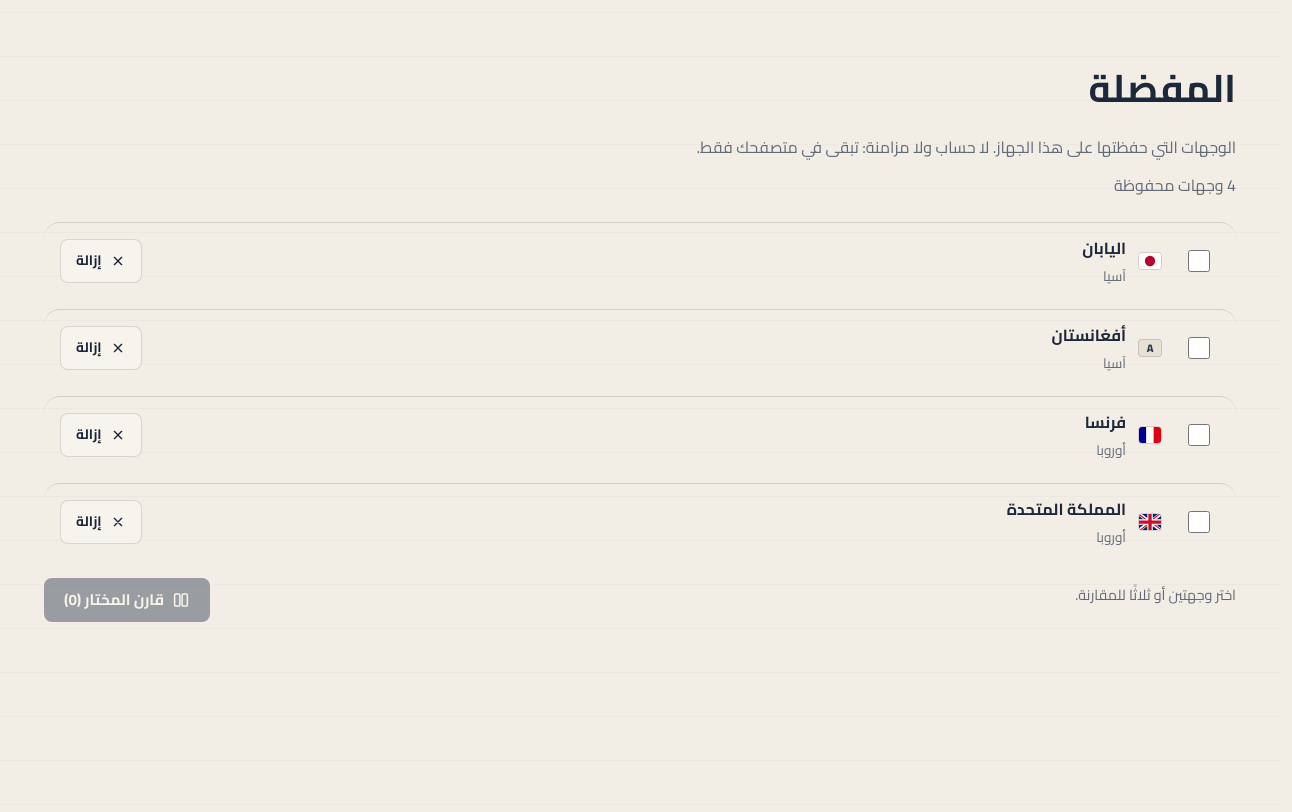
Favorites page › lists saved destinations, removes one, and limits compare to three
Expected: the number of list items is 4, [44,222,1236,299]; [44,309,1236,386]; [44,396,1236,473]; [44,483,1236,560]
Click the button with aria-label "إزالة المملكة المتحدة من المفضلة".
click(101, 522)  # box [60,500,142,544]
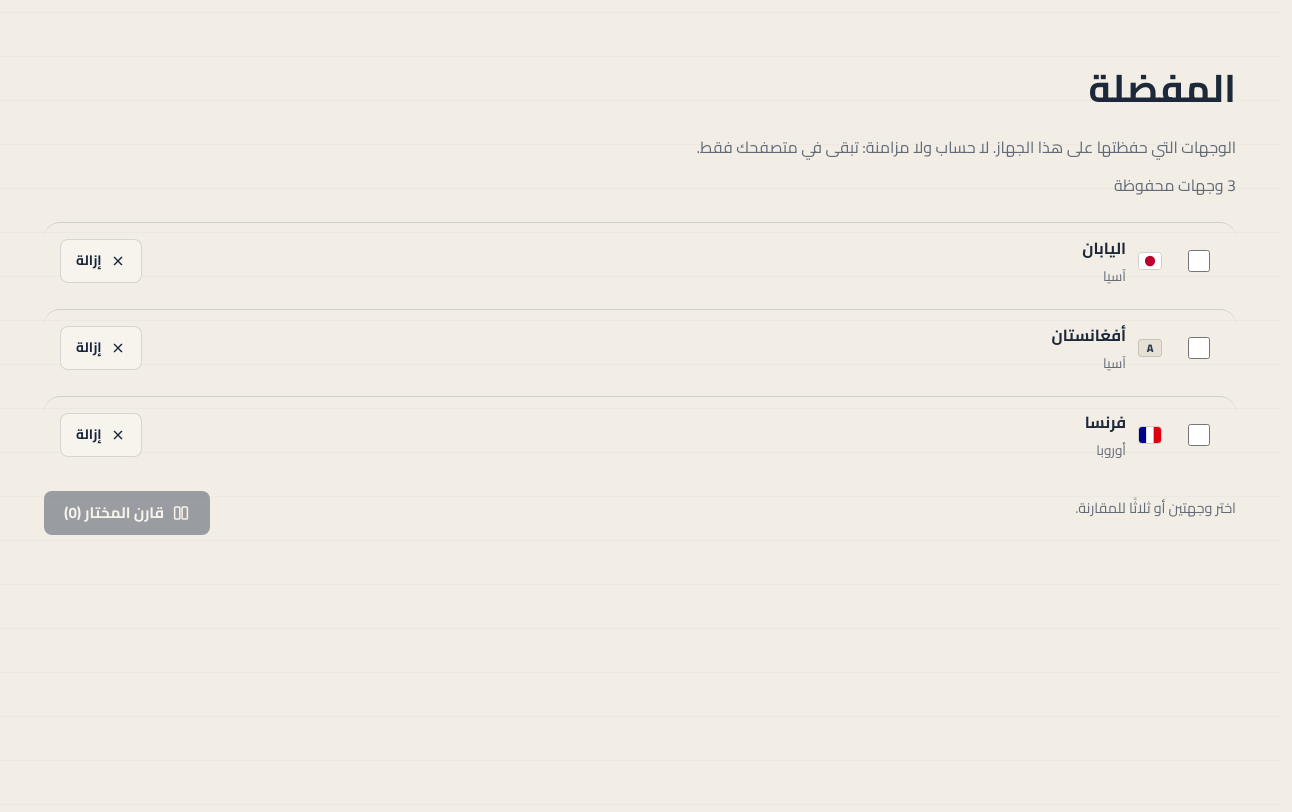
Expected: the button "قارن المختار (0)" is disabled, [44,491,210,535]
Result: the number of list items is 3 at [44,222,1236,299]; [44,309,1236,386]; [44,396,1236,473]
Click the checkbox named "اختر اليابان للمقارنة".
click(1198, 261)  # box [1188,250,1210,272]
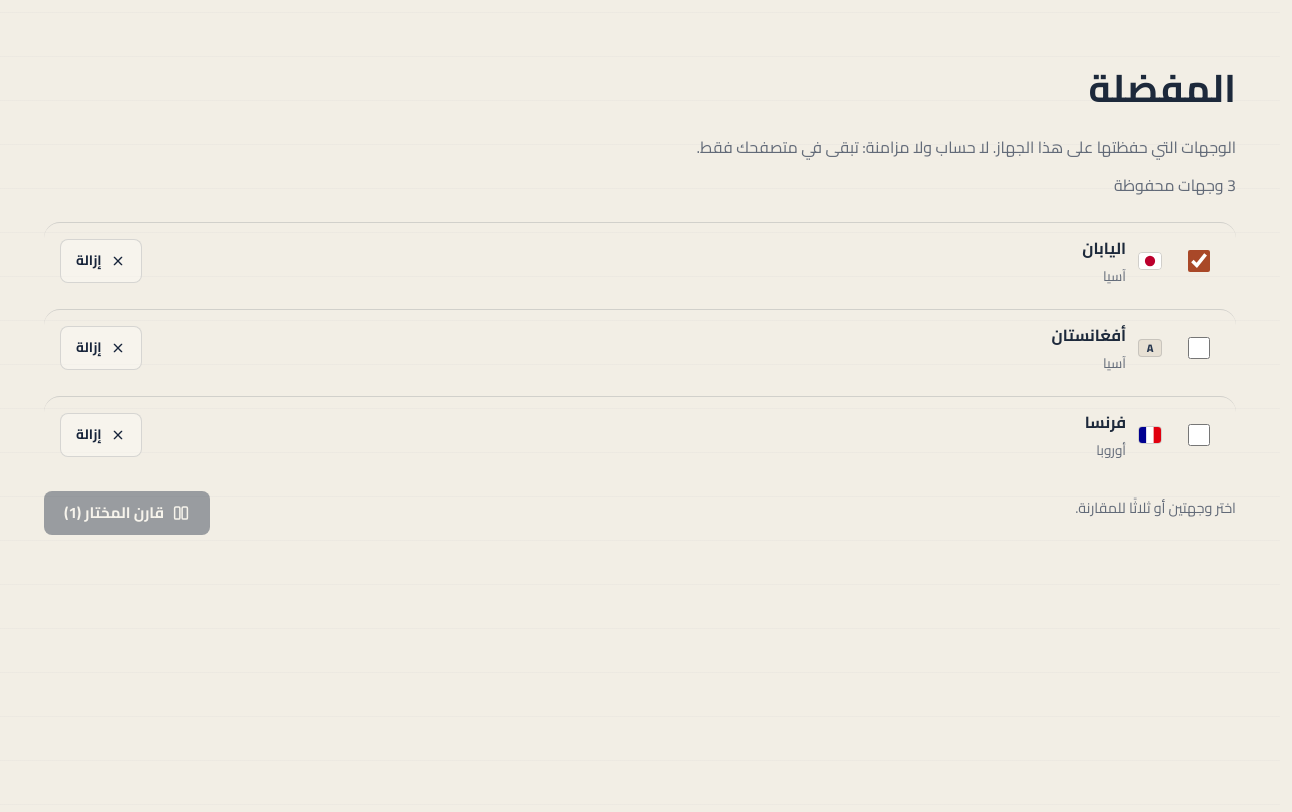
Expected: the button "قارن المختار (1)" is disabled, [44,491,210,535]
Click the checkbox named "اختر أفغانستان للمقارنة".
click(1198, 348)  # box [1188,337,1210,359]
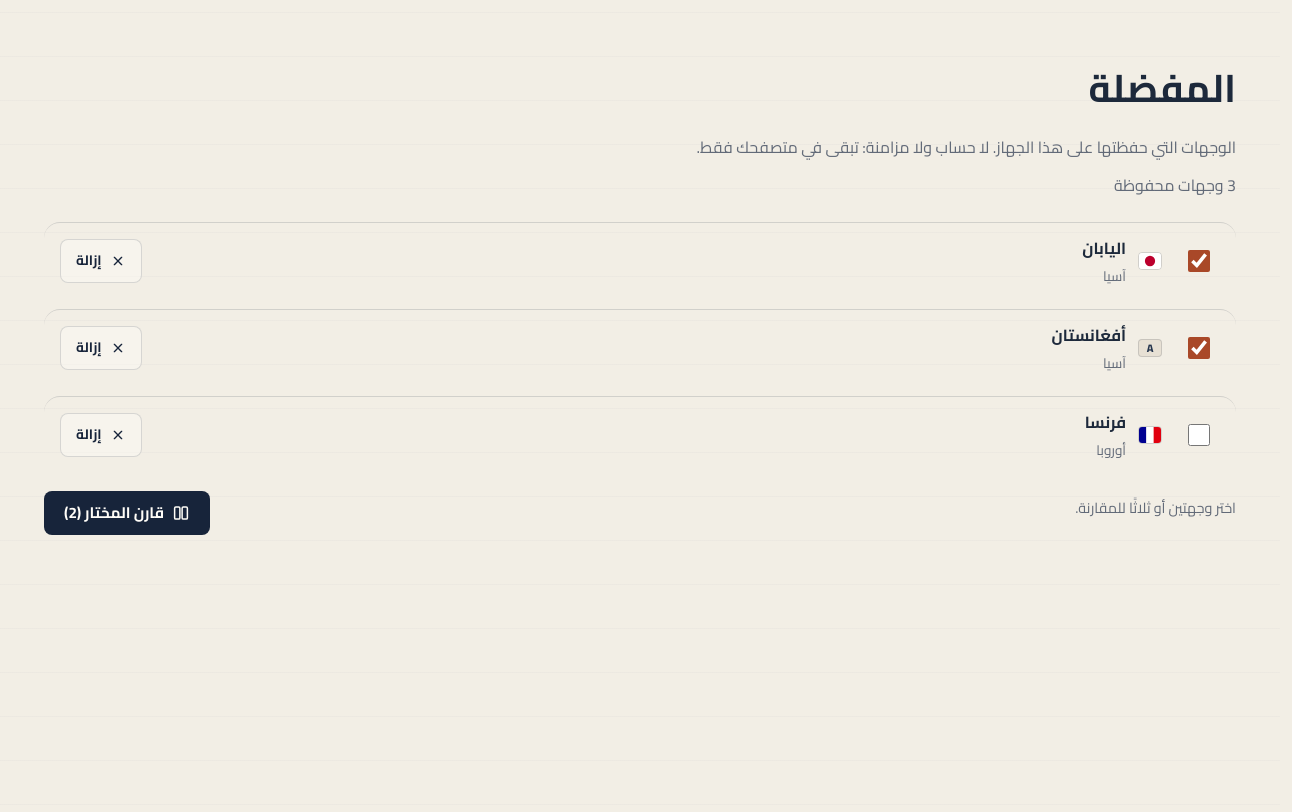
Click the checkbox named "اختر فرنسا للمقارنة".
click(1198, 435)  # box [1188,424,1210,446]
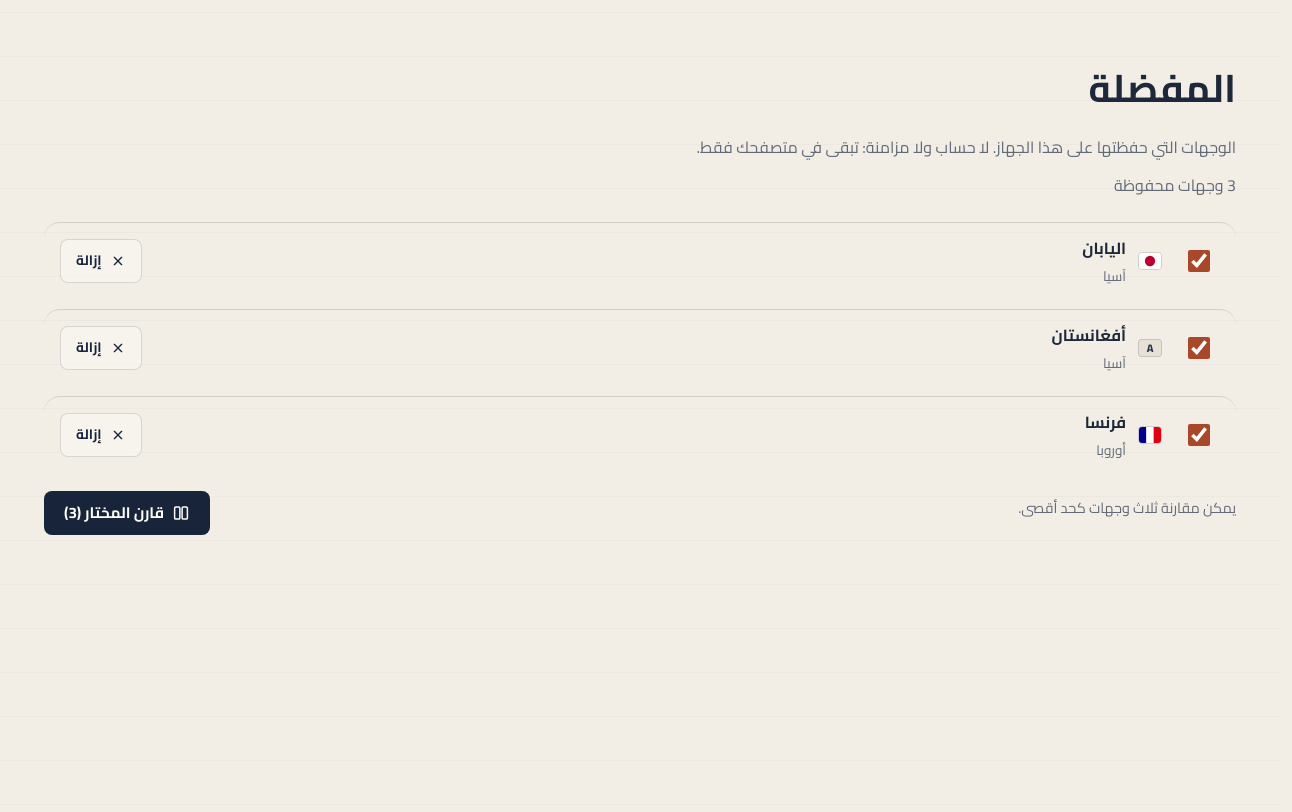
Result: the button "قارن المختار (3)" is enabled
Click the button "قارن المختار (3)".
click(127, 513)  # box [44,491,210,535]
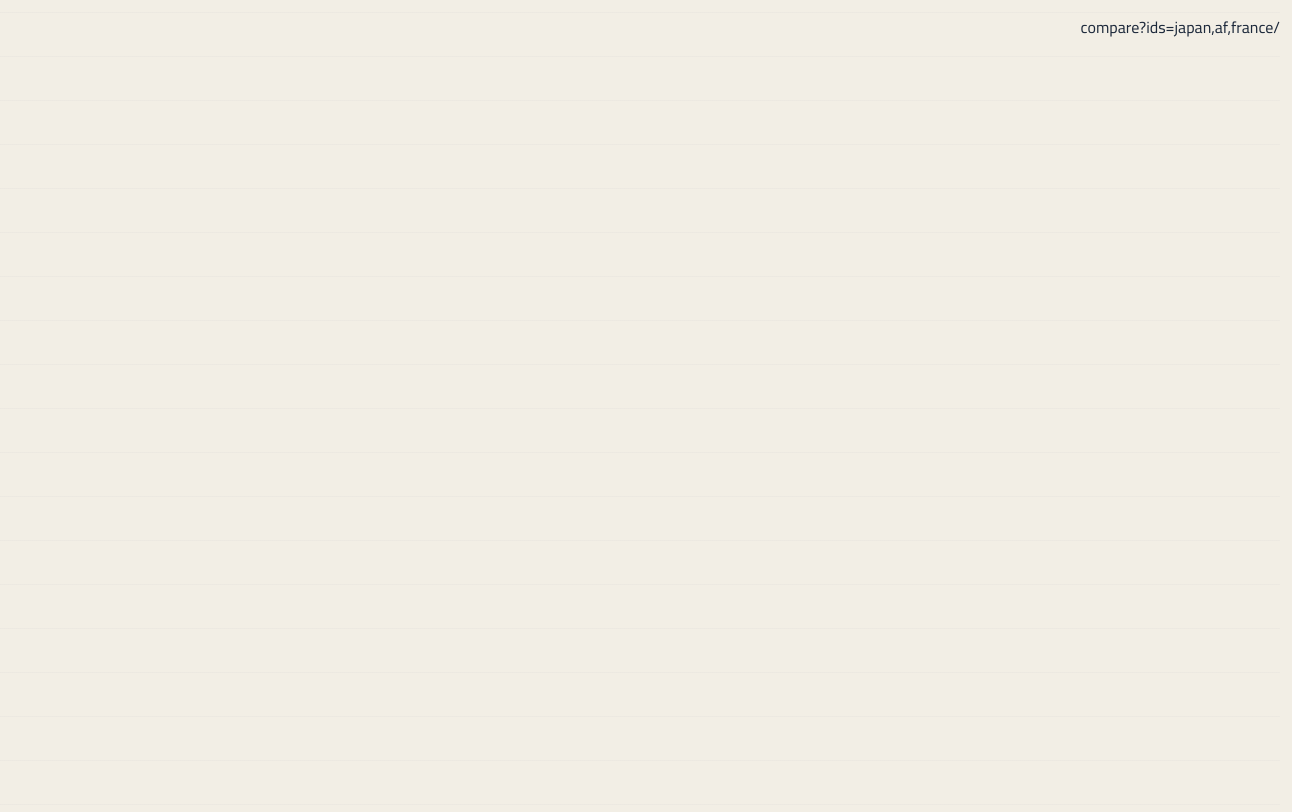
Result: the text with test id "location" reads "/compare?ids=japan,af,france" at [1080,12,1280,42]
